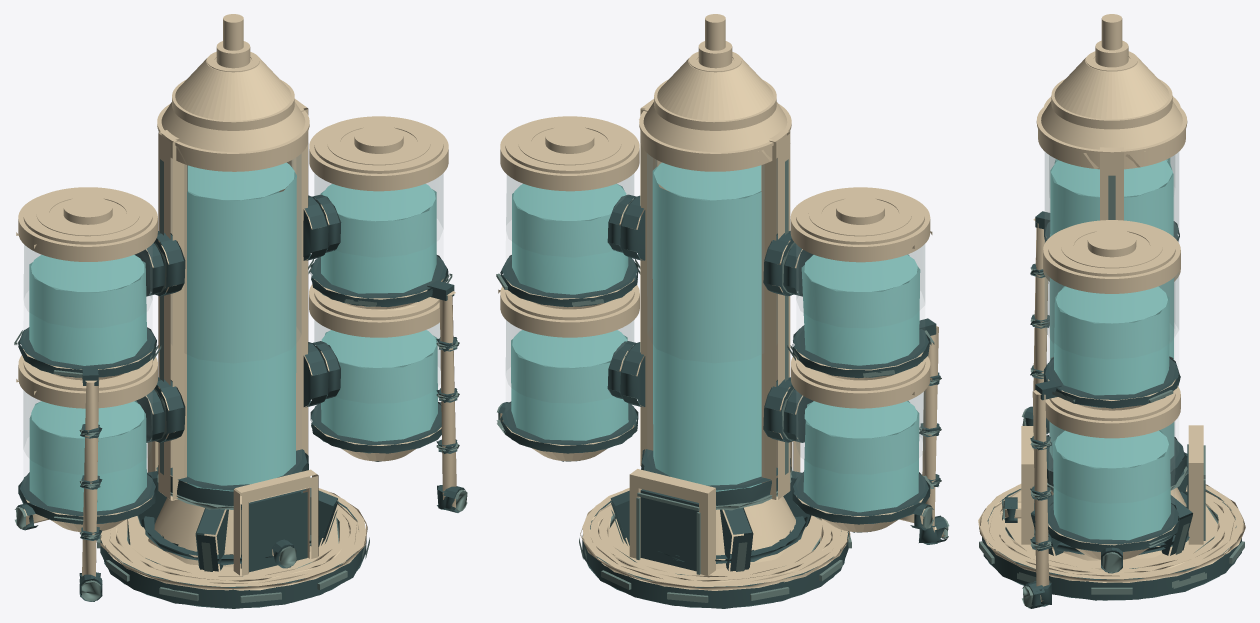
File: Vat_T4_capneon.glb
3 views of the same model, side by side, from view 1: azimuth 30°, elevation 25°; view 2: azimuth 150°, elevation 25°; view 3: azimuth 270°, elevation 25° (orthographic).
Visible parts, largest first — view 1: Vat_T4, CapNeon; view 2: Vat_T4, CapNeon; view 3: Vat_T4, CapNeon.
Part boxes in pixels (<box>): Vat_T4: <box>14,14,467,608</box>; CapNeon: <box>36,51,430,236</box>; Vat_T4: <box>496,14,949,608</box>; CapNeon: <box>518,51,911,236</box>; Vat_T4: <box>978,14,1245,608</box>; CapNeon: <box>1061,51,1162,268</box>.
Size of the model in its own units: 7.65 by 9.21 by 4.2.
